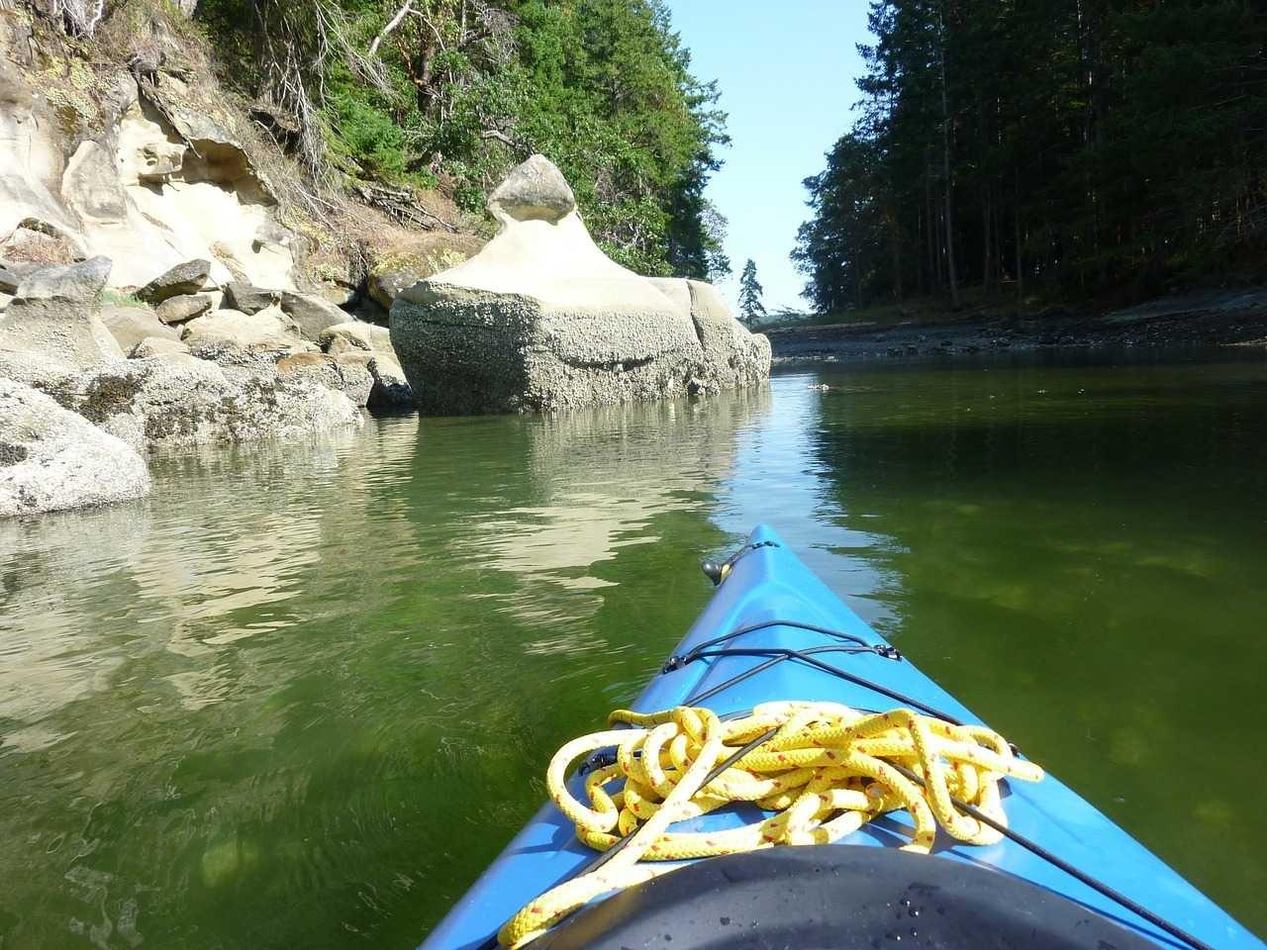kayak: (417, 522, 1262, 948)
